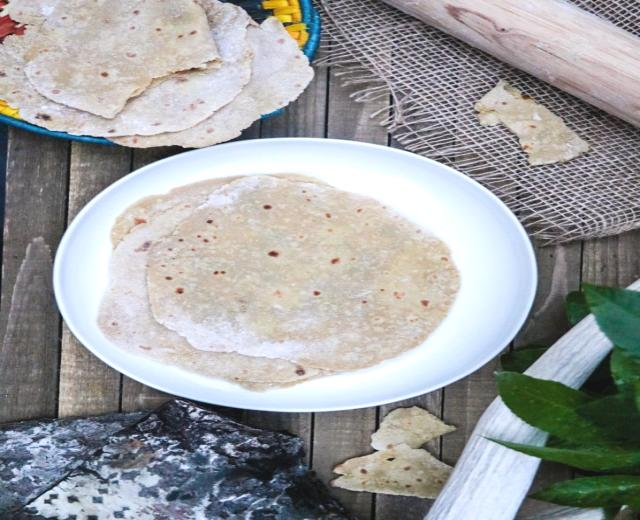chapati: (99, 175, 460, 389)
